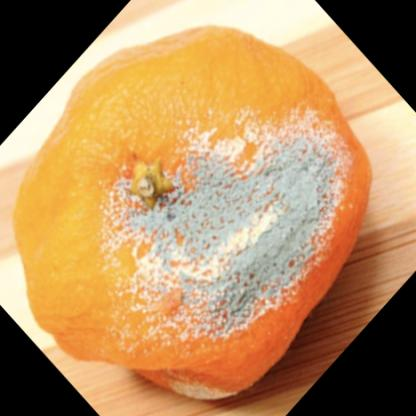rotten: (16, 26, 375, 404)
